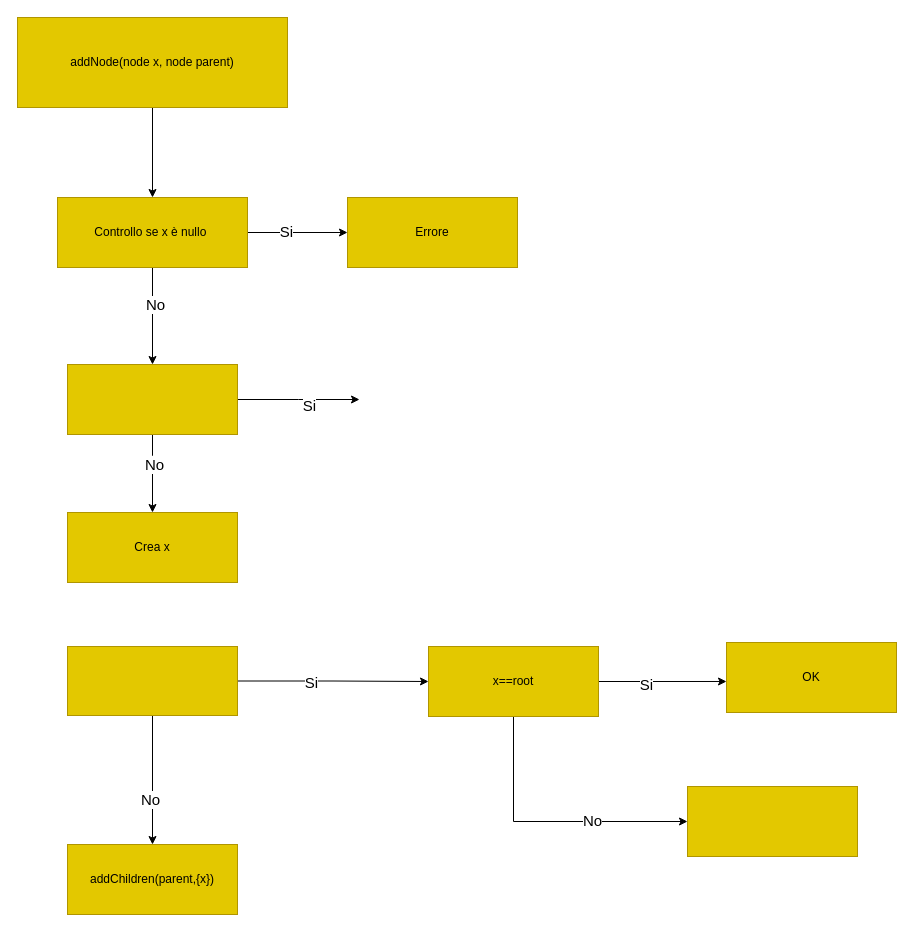
Some shapes in this 914 by 932 pixel diagram are drawn without their labels. Each missing label, with the centre of its shape:
addchildren(root,x): [772,821]
Esiste x?: [152,399]
parent null???: [152,681]
